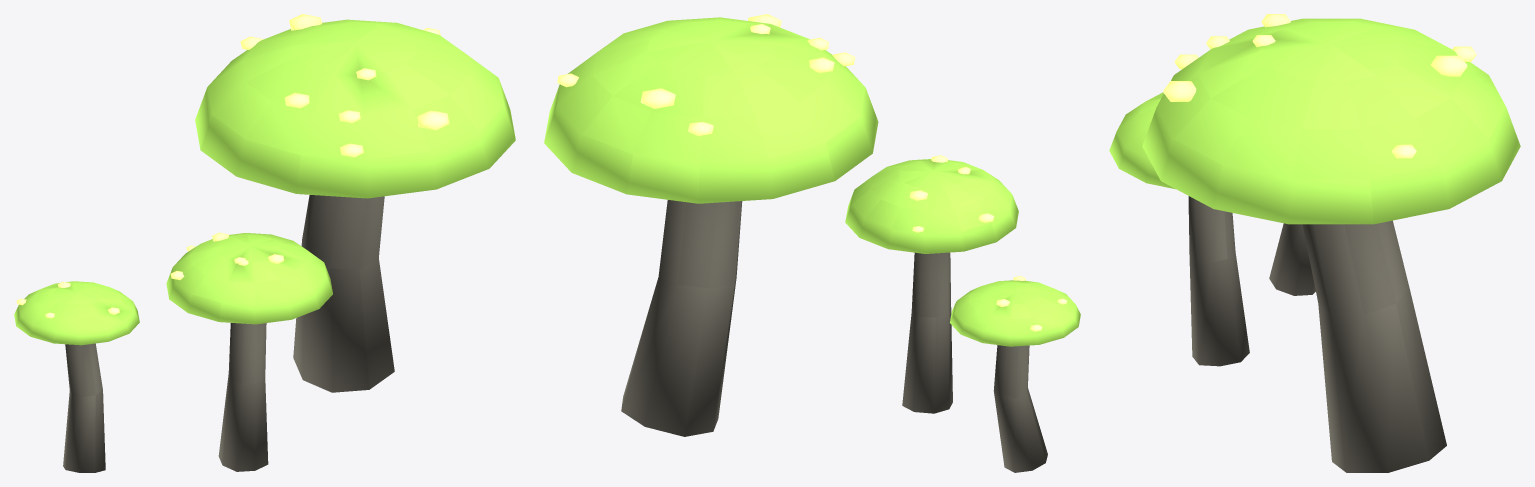
File: obj_deco_hongos_2.glb
3 views of the same model, side by side, from view 1: azimuth 30°, elevation 25°; view 2: azimuth 150°, elevation 25°; view 3: azimuth 270°, elevation 25° (orthographic). The views are drawn at different scales.
Visible parts, largest first — view 1: propforge-libre-deco_hongos; view 2: propforge-libre-deco_hongos; view 3: propforge-libre-deco_hongos.
Part boxes in pixels (x1,y1,x2,y2): propforge-libre-deco_hongos: (14, 14, 515, 472); propforge-libre-deco_hongos: (544, 14, 1080, 472); propforge-libre-deco_hongos: (1109, 14, 1520, 472).
Bounding box in the file's own units: 0.5369 × 0.3805 × 0.3446.
